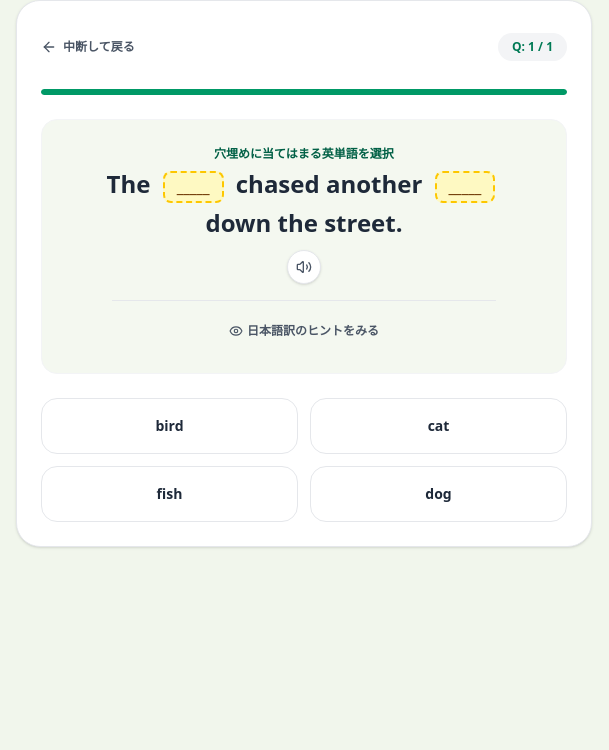
it: 答えが例文に2回以上出てくるとき › 答え合わせのあとの一覧にも記号が残らない
What coordinates should you click on to do the following:
click the button "dog"
I would click on:
 (438, 494)
Its box is left=310, top=466, right=567, bottom=522.
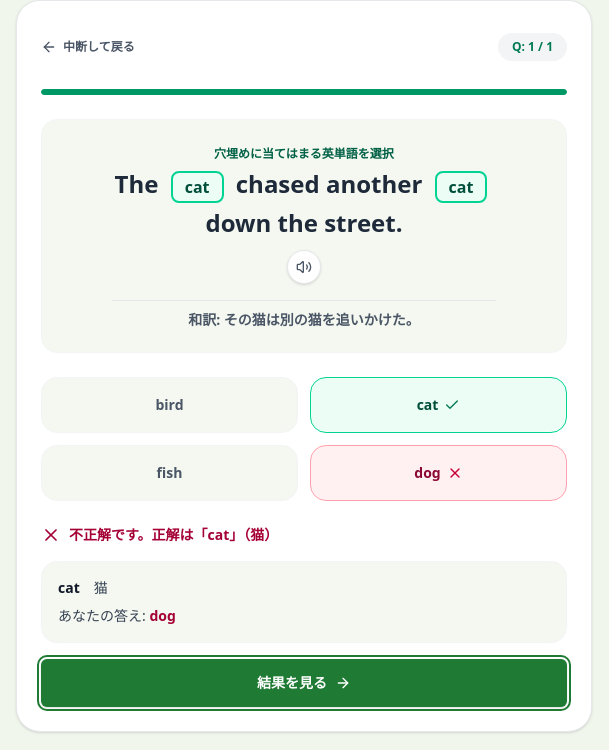
What coordinates should you click on to do the following:
click the button with id "btn_next_question"
I would click on:
 (304, 683)
Its box is left=41, top=659, right=567, bottom=707.
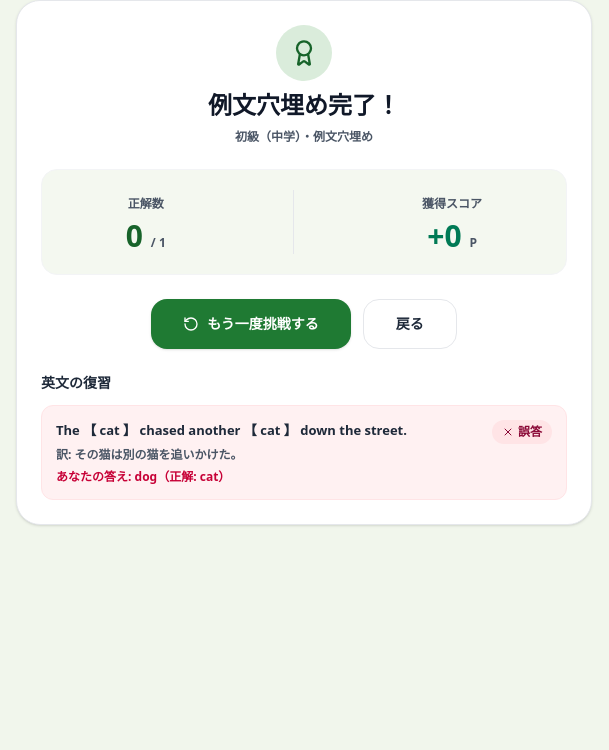
Expected: the element with id "sentence_result_card" is shown
Expected: the text "【 cat 】 chased another 【 cat 】" is shown, left=56, top=421, right=407, bottom=439
